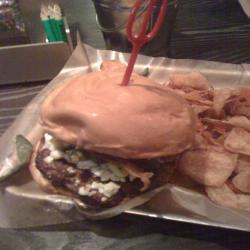burger: (27, 60, 199, 218)
fries: (165, 72, 250, 207)
